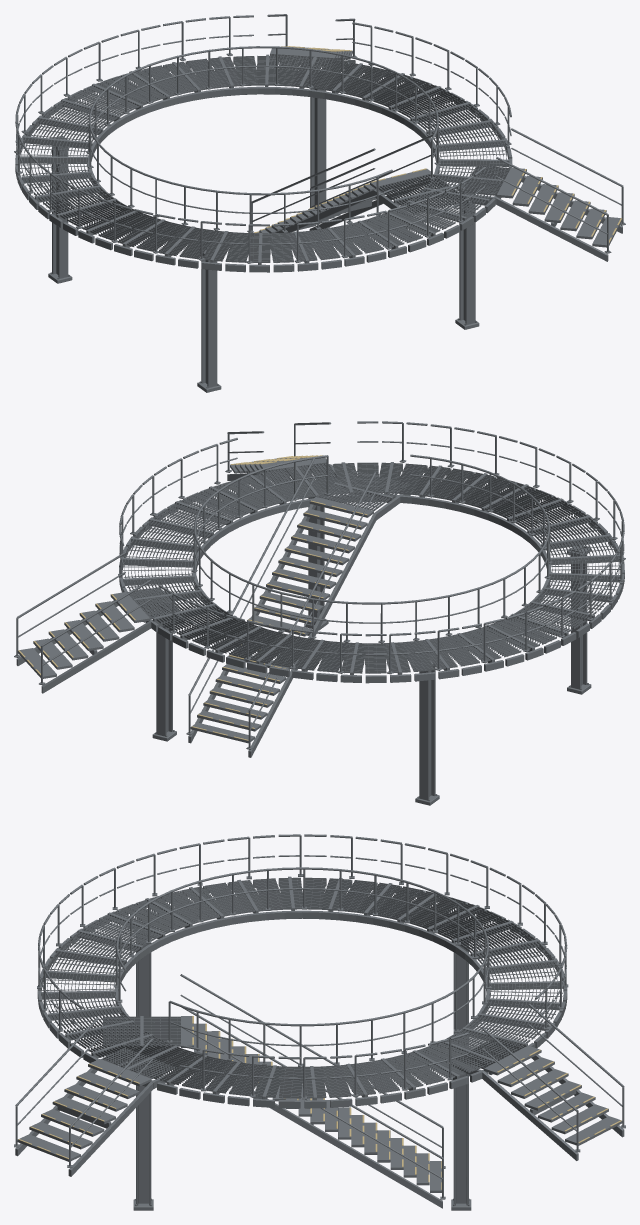
The model's file is BN_E02_ServiceDeck_LOD1.fbx.
The picture shows the model from 3 angles, top to bottom: view 1: azimuth 30°, elevation 25°; view 2: azimuth 150°, elevation 25°; view 3: azimuth 270°, elevation 25°; orthographic projection. The views are drawn at different scales.
Parts seen in each view (by area): view 1: BN_E02_ServiceDeck_LOD1; view 2: BN_E02_ServiceDeck_LOD1; view 3: BN_E02_ServiceDeck_LOD1.
Part boxes in pixels (x1,y1,x2,y2): BN_E02_ServiceDeck_LOD1: (14, 14, 625, 392); BN_E02_ServiceDeck_LOD1: (14, 421, 625, 805); BN_E02_ServiceDeck_LOD1: (14, 834, 625, 1210).
Bounding box in the file's own units: 1230 × 480 × 1308.
